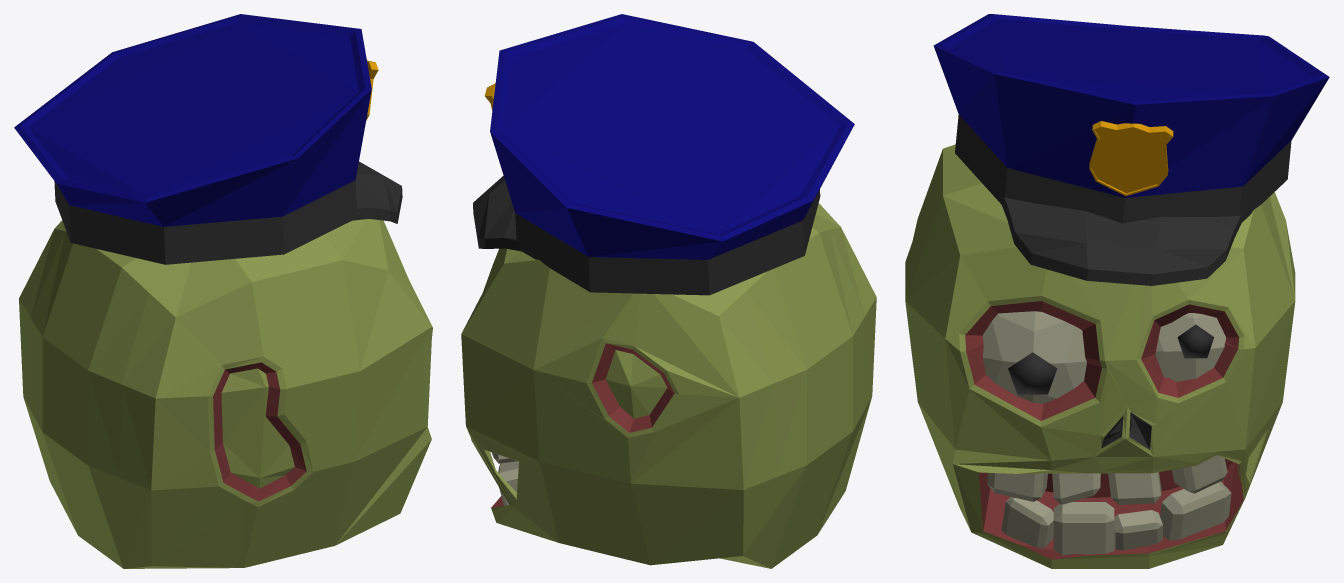
The model's file is 좀비3 아이들.FBX.
3 views of the same model, side by side, from view 1: azimuth 30°, elevation 25°; view 2: azimuth 150°, elevation 25°; view 3: azimuth 270°, elevation 25° (orthographic). The views are drawn at different scales.
Parts seen in each view (by area): view 1: Box003; view 2: Box003; view 3: Box003.
Part boxes in pixels (x1,y1,x2,y2): Box003: [14, 14, 432, 568]; Box003: [461, 14, 876, 568]; Box003: [905, 14, 1329, 568].
Bounding box in the file's own units: 389 × 405 × 501.
